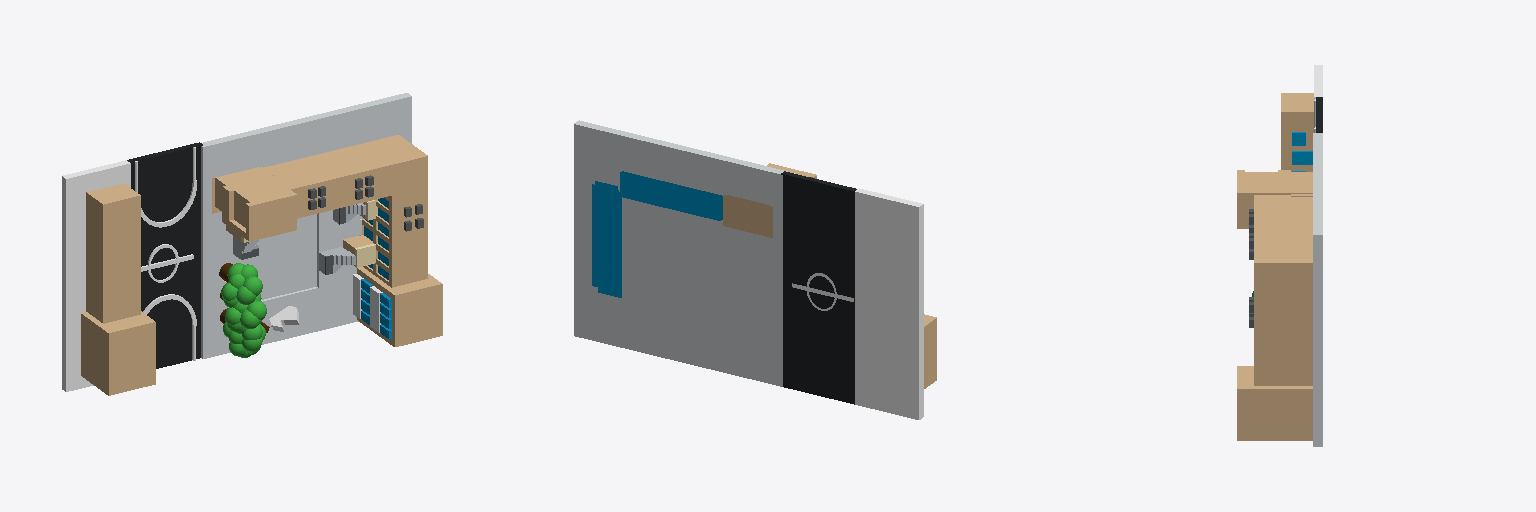
File: tinker.obj
3 renders of one model, left to right at view 1: azimuth 30°, elevation 25°; view 2: azimuth 150°, elevation 25°; view 3: azimuth 270°, elevation 25°, orthographic.
Visible parts, largest first — view 1: obj_0; view 2: obj_0; view 3: obj_0.
Boxes of the visible parts, <box> form: obj_0: <box>62,93,442,395</box>; obj_0: <box>574,120,936,419</box>; obj_0: <box>1237,65,1322,446</box>.
Size of the model in its own units: 358 by 211 by 77.